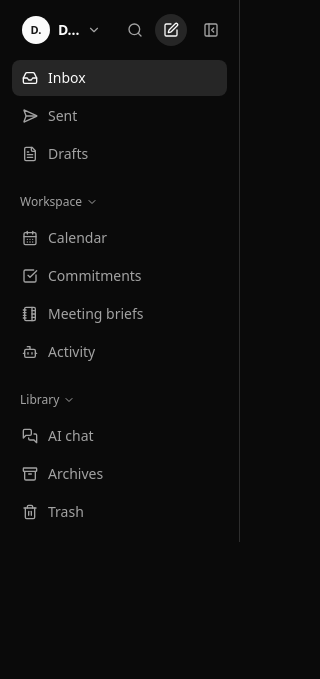
AppSidebar › collapses grouped navigation sections
Expected: the link "Commitments" is shown, left=22, top=266, right=142, bottom=285
Step 1. Click the button "Workspace" → [59, 202], box left=12, top=188, right=106, bottom=216
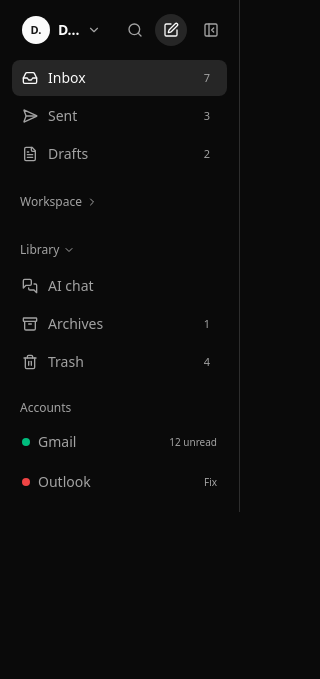
Result: the link "Commitments" is gone
Step 2. Click the button "Workspace" → [59, 202], box left=12, top=188, right=106, bottom=216
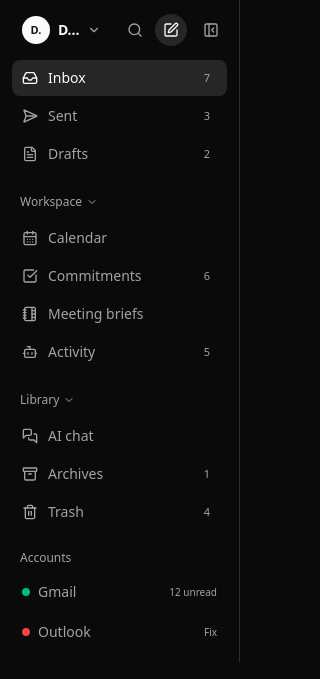
Result: the link "Commitments 6" is shown at left=22, top=266, right=210, bottom=285
